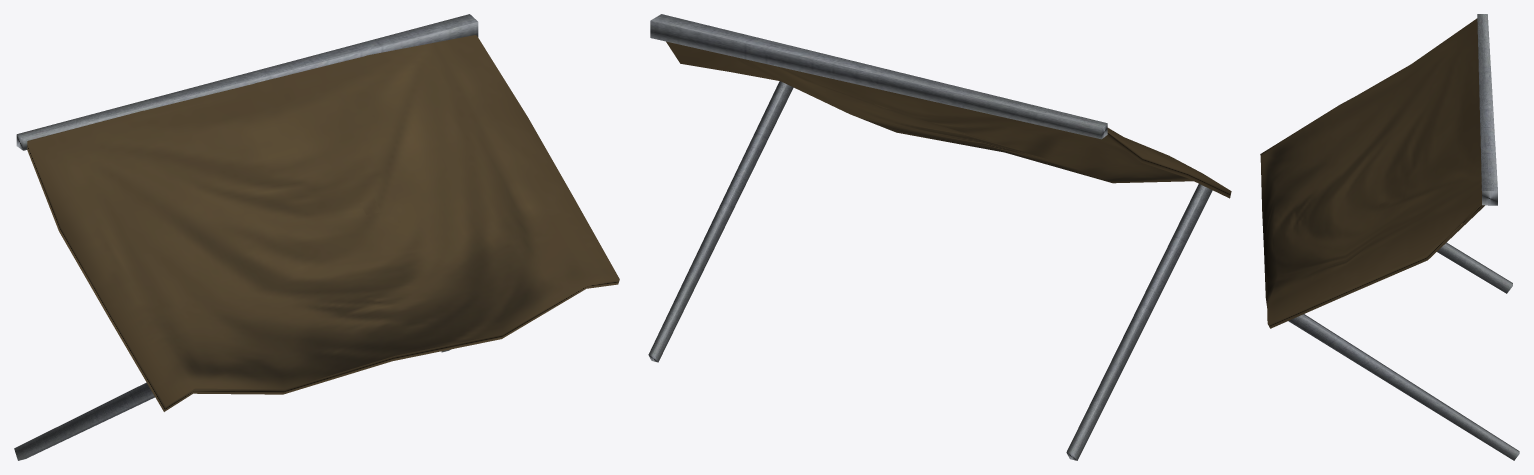
Rendered from WindowRoofB.fbx.
3 renders of one model, left to right at view 1: azimuth 30°, elevation 25°; view 2: azimuth 150°, elevation 25°; view 3: azimuth 270°, elevation 25°, orthographic. The views are drawn at different scales.
Parts seen in each view (by area): view 1: WindowRoofB; view 2: WindowRoofB; view 3: WindowRoofB.
Part boxes in pixels (<box>): WindowRoofB: <box>14,14,619,460</box>; WindowRoofB: <box>648,14,1231,460</box>; WindowRoofB: <box>1260,14,1519,460</box>.
Size of the model in its own units: 200 by 138 by 118.
1 material, 1 textured.
